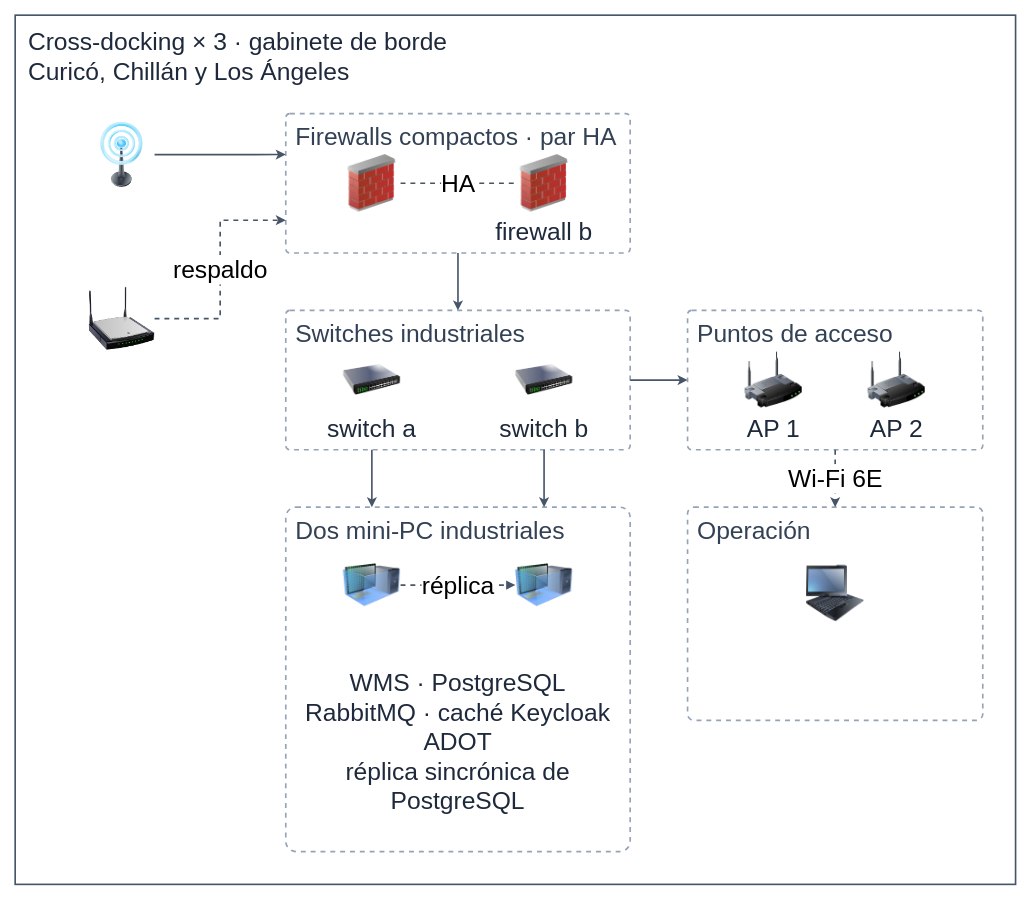
Image size: 1030x899. Some labels were removed from this diagram. The shapes that lost their labels are listed below. From the top down, each one's centre as x and y in pixels, then its label:
At pixel 121 154: "Starlink (principal)".
At pixel 371 183: "firewall a".
At pixel 121 318: "LTE 2 proveedores".
At pixel 371 584: "activo".
At pixel 543 584: "en espera".
At pixel 834 593: "Terminales MC9400 GS1 · 2 por sitio".
